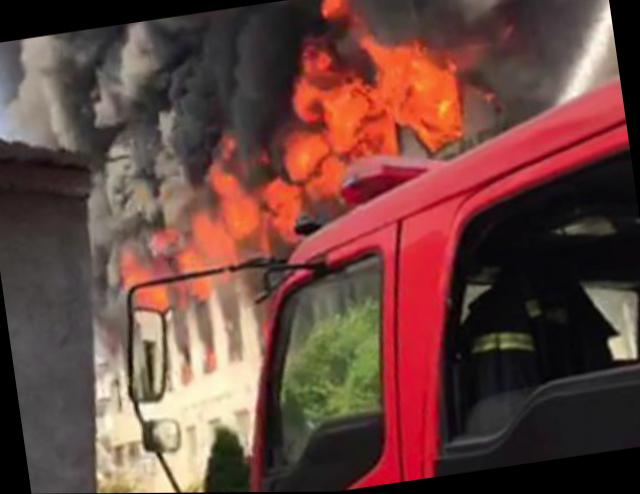fire: (389, 36, 465, 152), (316, 68, 402, 166), (215, 163, 274, 248), (288, 126, 348, 201), (272, 174, 309, 239), (193, 209, 232, 265), (118, 250, 156, 285), (138, 281, 169, 312), (174, 247, 204, 273)
